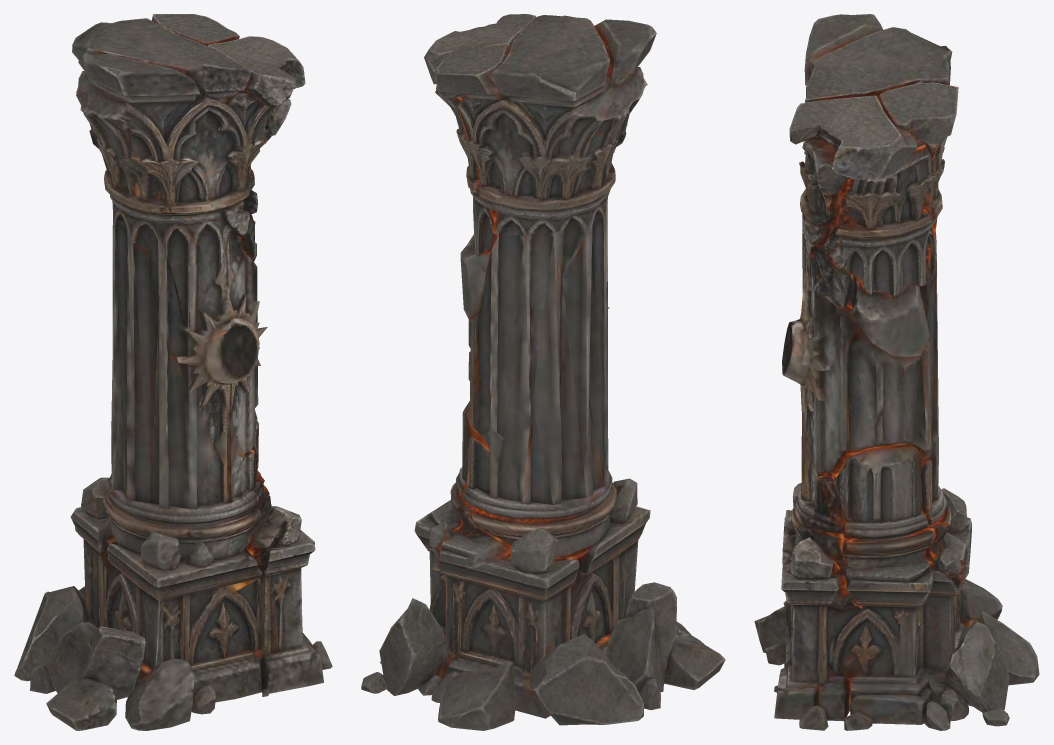
The model's file is PR_crypt_pillar.glb.
3 renders of one model, left to right at view 1: azimuth 30°, elevation 25°; view 2: azimuth 150°, elevation 25°; view 3: azimuth 270°, elevation 25°, orthographic. The views are drawn at different scales.
Visible parts, largest first — view 1: PR_crypt_pillar_LOD0; view 2: PR_crypt_pillar_LOD0; view 3: PR_crypt_pillar_LOD0.
Part boxes in pixels (box(x1,y1,x2,y2)): PR_crypt_pillar_LOD0: box(14, 14, 332, 730); PR_crypt_pillar_LOD0: box(361, 14, 725, 730); PR_crypt_pillar_LOD0: box(754, 14, 1039, 730).
Size of what is drawn, in the model's own units: 1.42 by 3.2 by 1.34.
Materials: 1 (1 with a texture image).
